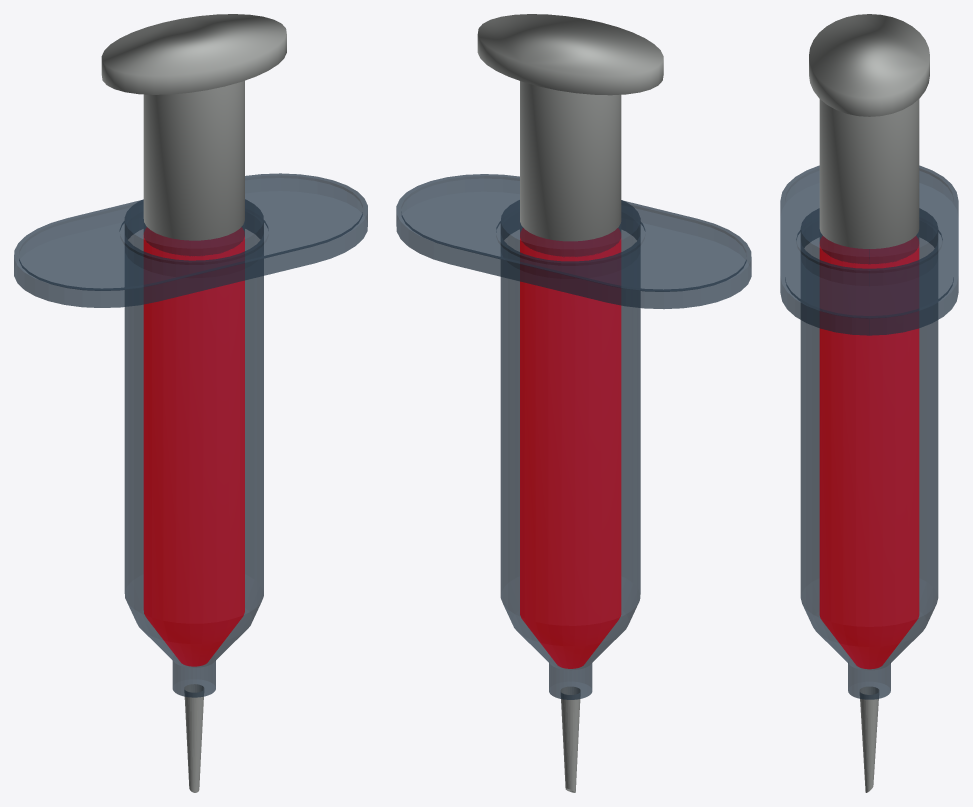
File: Syringe.fbx
The picture shows the model from 3 angles, left to right: view 1: azimuth 30°, elevation 25°; view 2: azimuth 150°, elevation 25°; view 3: azimuth 270°, elevation 25°; orthographic projection.
Visible parts, largest first — view 1: Body, Fluid, Plunger; view 2: Body, Fluid, Plunger; view 3: Body, Fluid, Plunger.
Boxes of the visible parts, <box> form: Body: <box>14,173,367,792</box>; Fluid: <box>143,227,244,666</box>; Plunger: <box>101,14,286,240</box>; Body: <box>396,174,751,792</box>; Fluid: <box>520,228,621,668</box>; Plunger: <box>477,14,663,241</box>; Body: <box>780,165,958,792</box>; Fluid: <box>819,236,919,669</box>; Plunger: <box>809,14,929,248</box>.
Bounding box in the file's own units: 305 × 653 × 143.
